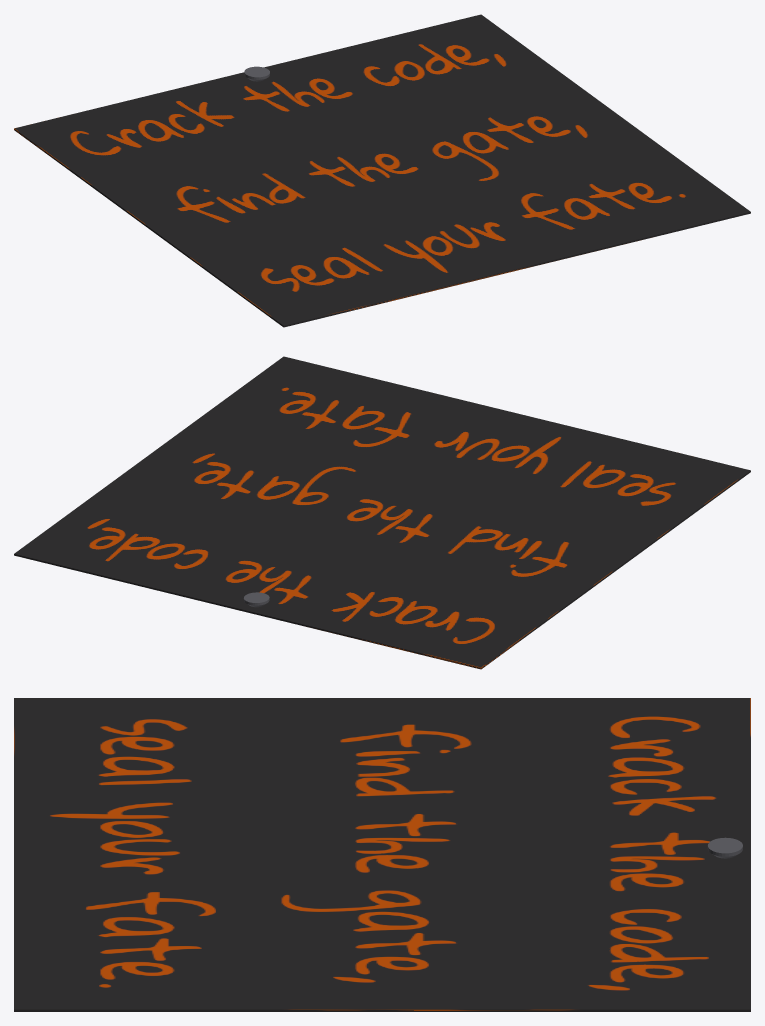
3 renders of one model, top to bottom at view 1: azimuth 30°, elevation 25°; view 2: azimuth 150°, elevation 25°; view 3: azimuth 270°, elevation 25°, orthographic. The views are drawn at different scales.
Parts seen in each view (by area): view 1: D4638624-62C8-4F26-A88A-8EC9E852AB09; view 2: D4638624-62C8-4F26-A88A-8EC9E852AB09; view 3: D4638624-62C8-4F26-A88A-8EC9E852AB09.
Boxes of the visible parts, x1,y1,x2,y2 form: D4638624-62C8-4F26-A88A-8EC9E852AB09: [14, 14, 750, 327]; D4638624-62C8-4F26-A88A-8EC9E852AB09: [14, 356, 750, 669]; D4638624-62C8-4F26-A88A-8EC9E852AB09: [14, 698, 750, 1011].
Bounding box in the file's own units: 200 × 5.11 × 200.
2 materials, 1 textured.
